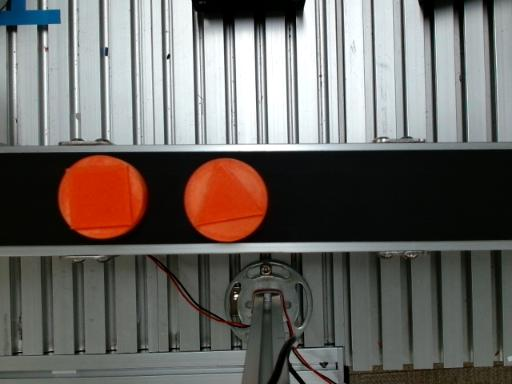Not_Square: (193, 160, 264, 225)
Orange_Waper: (58, 155, 147, 238), (184, 158, 267, 242)
Square: (69, 164, 135, 231)
